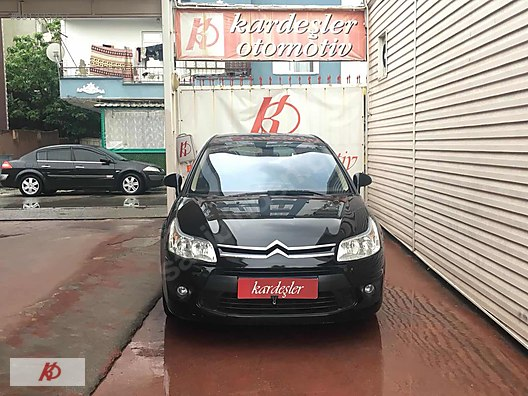citroen: (154, 126, 391, 331)
